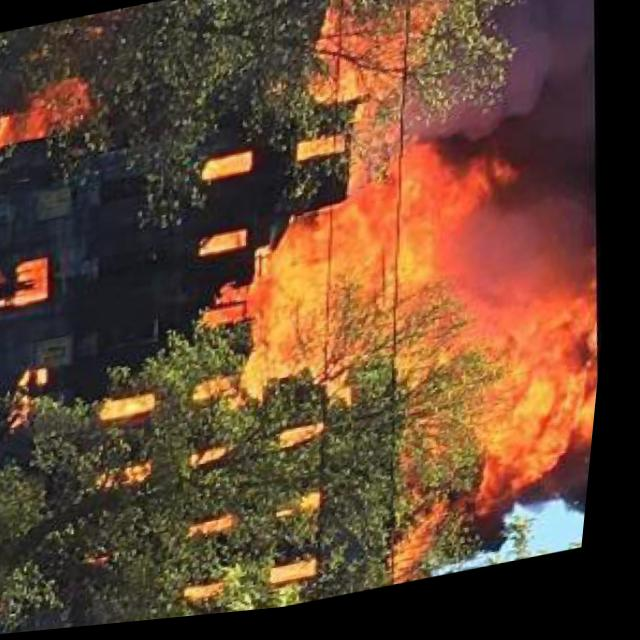Fire: (79, 0, 640, 630)
